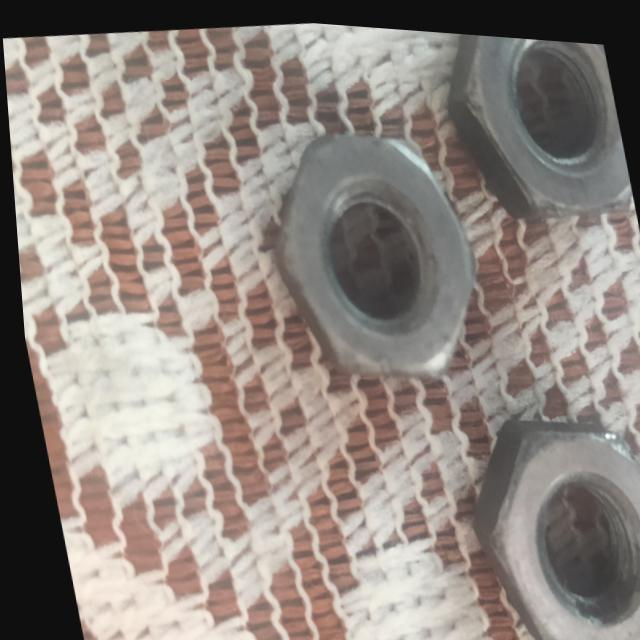disinfected nut: (272, 128, 472, 368), (465, 410, 640, 640), (447, 27, 628, 209)
